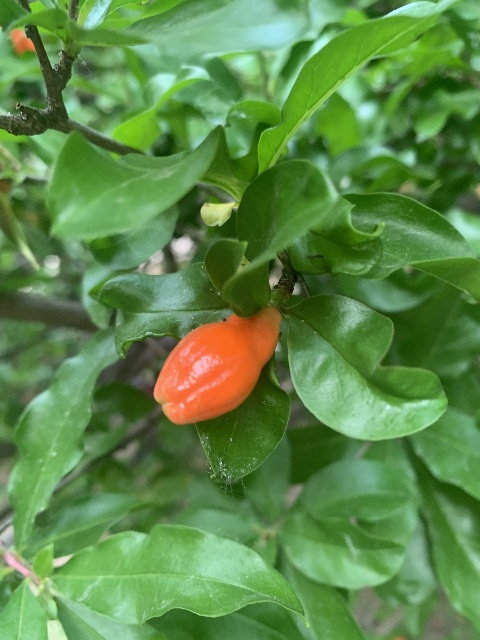bud: (153, 305, 280, 427)
